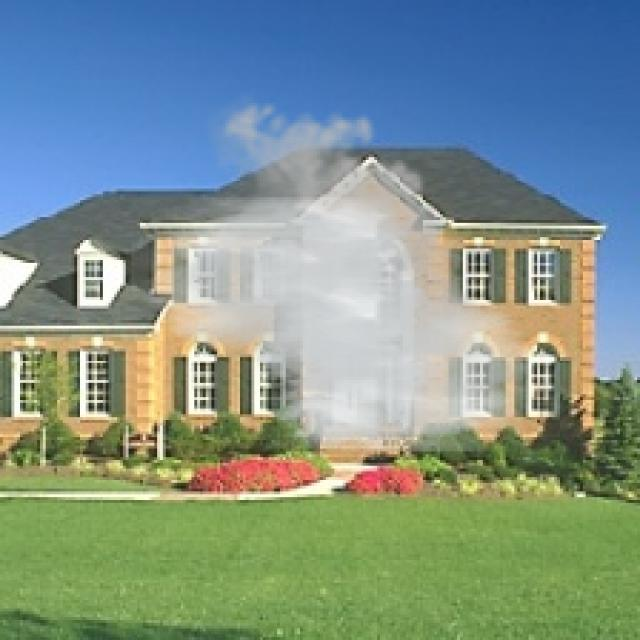smoke: (132, 91, 552, 452)
